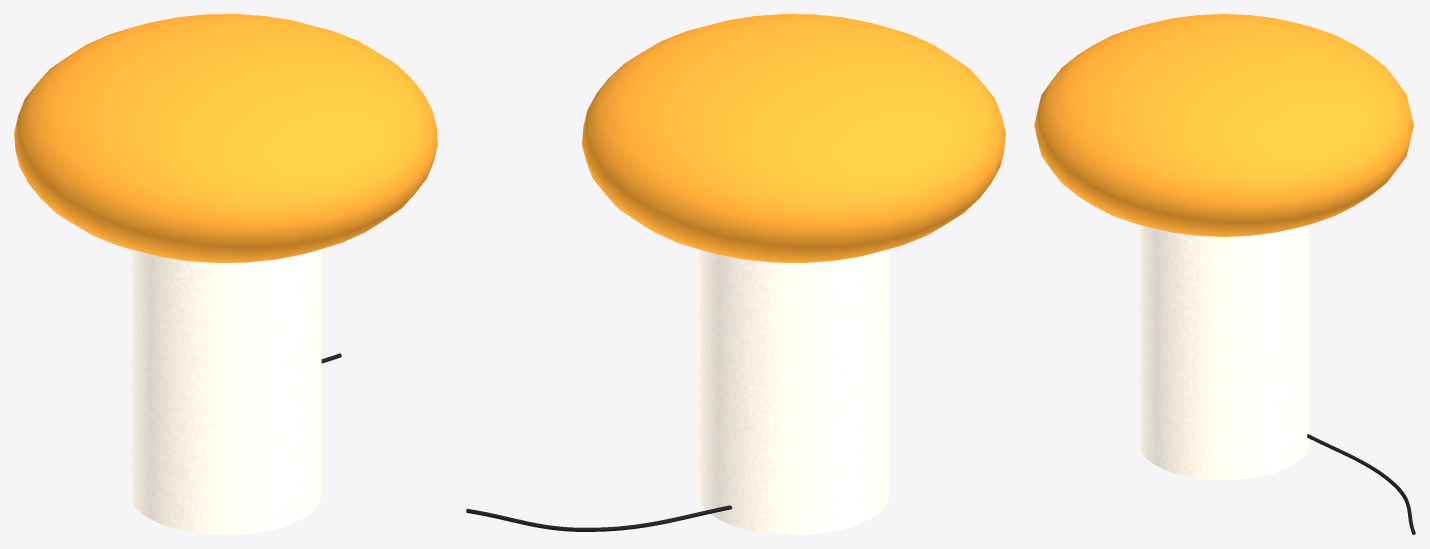
Rendered from ref08_07.glb.
3 renders of one model, left to right at view 1: azimuth 30°, elevation 25°; view 2: azimuth 150°, elevation 25°; view 3: azimuth 270°, elevation 25°, orthographic. The views are drawn at different scales.
Visible parts, largest first — view 1: ref08_07; view 2: ref08_07; view 3: ref08_07.
Boxes of the visible parts, bbox=[...] form: ref08_07: bbox=[14, 14, 437, 534]; ref08_07: bbox=[466, 14, 1005, 534]; ref08_07: bbox=[1034, 14, 1415, 534].
Size of the model in its own units: 0.4403 by 0.46 by 0.402.
Materials: 3 (1 with a texture image).
